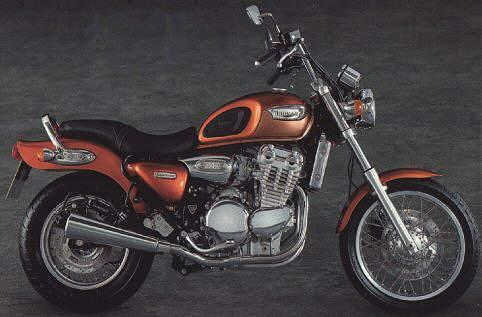motorcycle: (1, 1, 482, 315)
